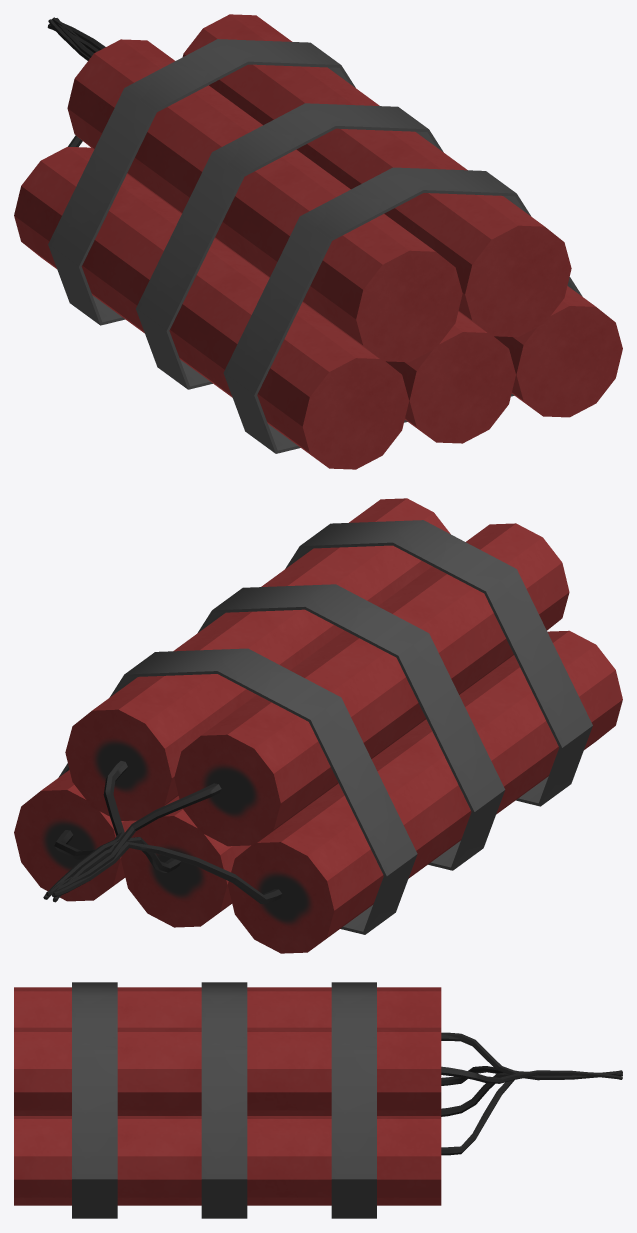
File: dynamite.fbx
3 views of the same model, one above another, from view 1: azimuth 30°, elevation 25°; view 2: azimuth 150°, elevation 25°; view 3: azimuth 270°, elevation 25° (orthographic). The views are drawn at different scales.
Parts seen in each view (by area): view 1: dynamite; view 2: dynamite; view 3: dynamite.
Boxes of the visible parts, box(x1,y1,x2,y2) form: dynamite: box(14, 14, 622, 469); dynamite: box(14, 498, 622, 953); dynamite: box(14, 982, 622, 1218).
Size of the model in its own units: 6.36 by 4.09 by 13.38.
1 material, 1 textured.
